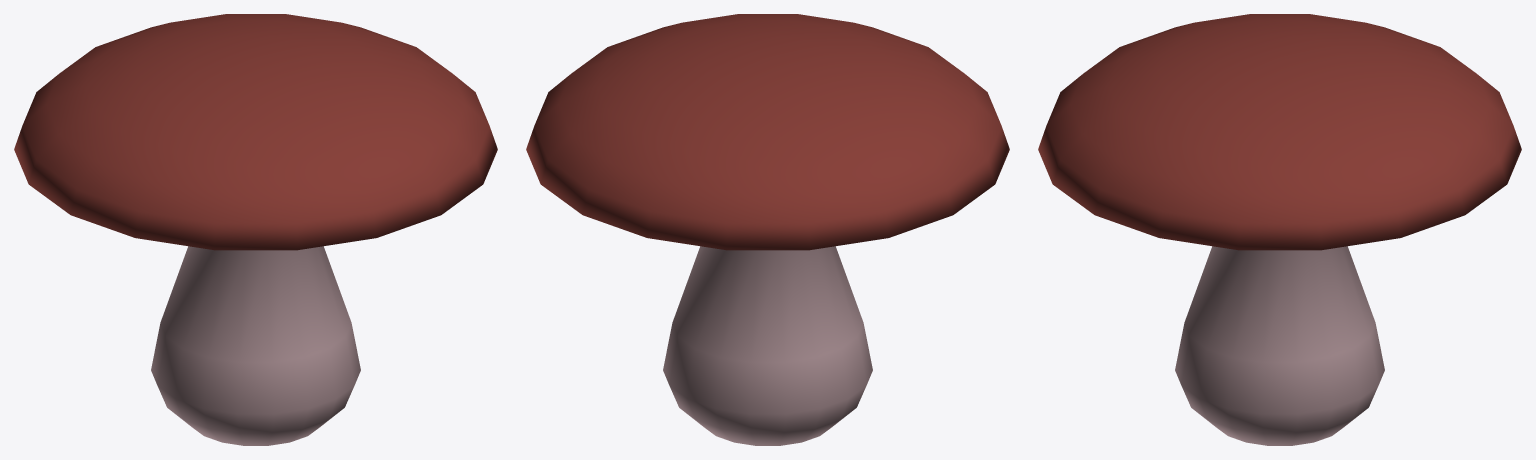
File: MushroomLG_20210127.fbx
The picture shows the model from 3 angles, left to right: view 1: azimuth 30°, elevation 25°; view 2: azimuth 150°, elevation 25°; view 3: azimuth 270°, elevation 25°; orthographic projection.
Visible parts, largest first — view 1: mushroom LG; view 2: mushroom LG; view 3: mushroom LG.
Boxes of the visible parts, <box> form: mushroom LG: <box>14,14,497,445</box>; mushroom LG: <box>526,14,1009,445</box>; mushroom LG: <box>1038,14,1521,445</box>.
Bounding box in the file's own units: 0.2533 × 0.2107 × 0.2572.
